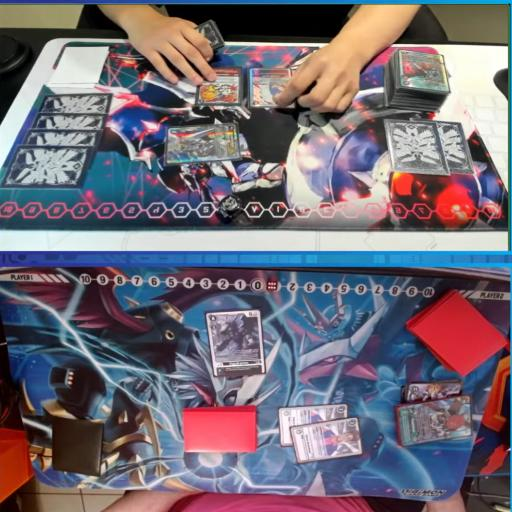card: (205, 308, 266, 379), (396, 397, 472, 451), (291, 417, 365, 468), (276, 401, 350, 447), (164, 124, 239, 162), (198, 64, 243, 108), (394, 53, 449, 88), (404, 380, 466, 410), (249, 69, 294, 109)
